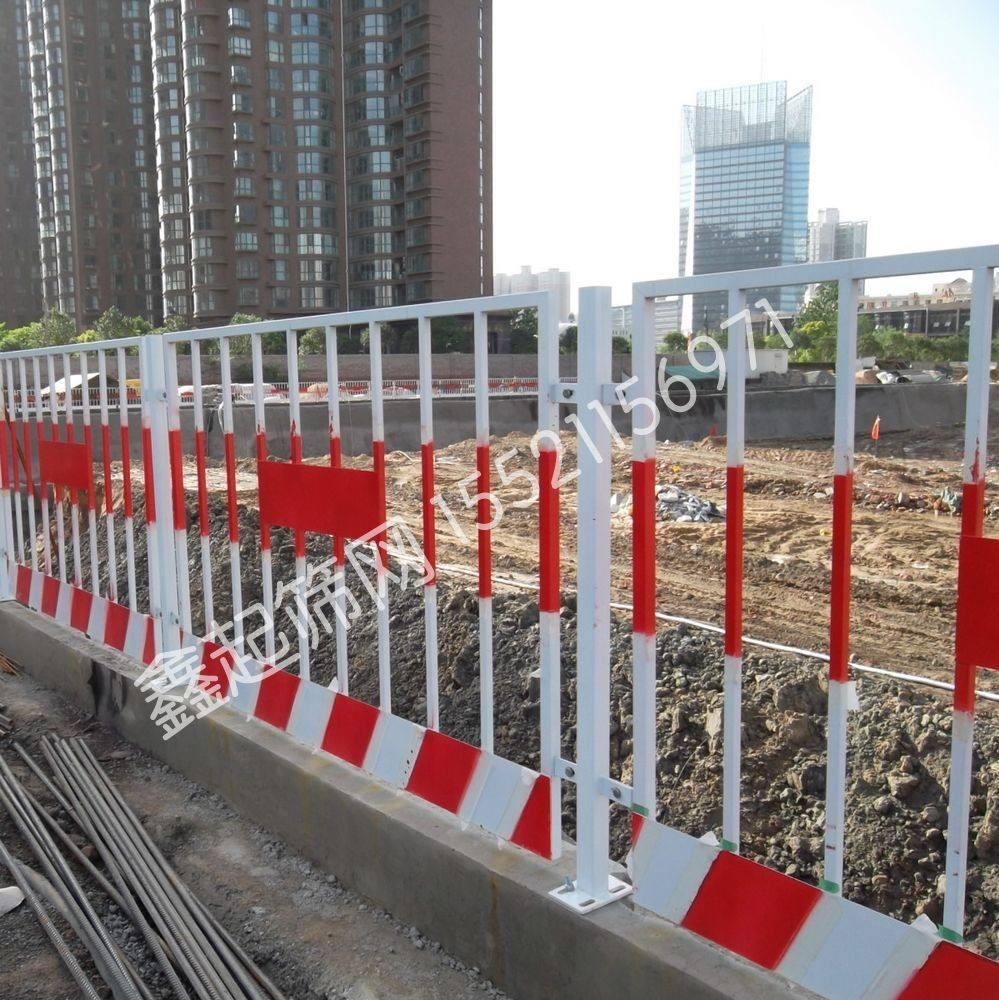sign: (1, 254, 917, 892)
